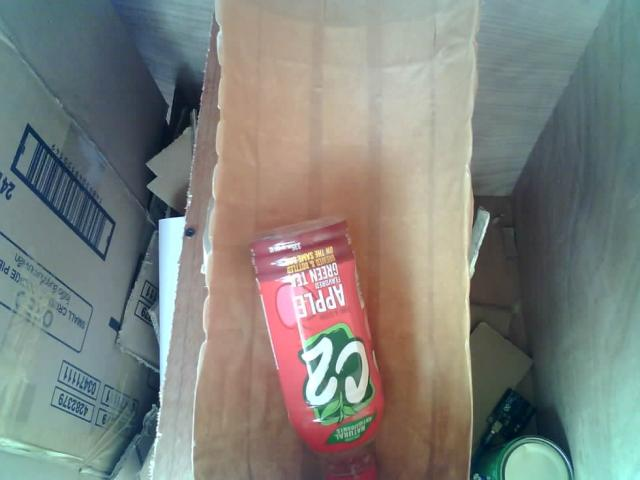small_bottle: (240, 198, 419, 480)
